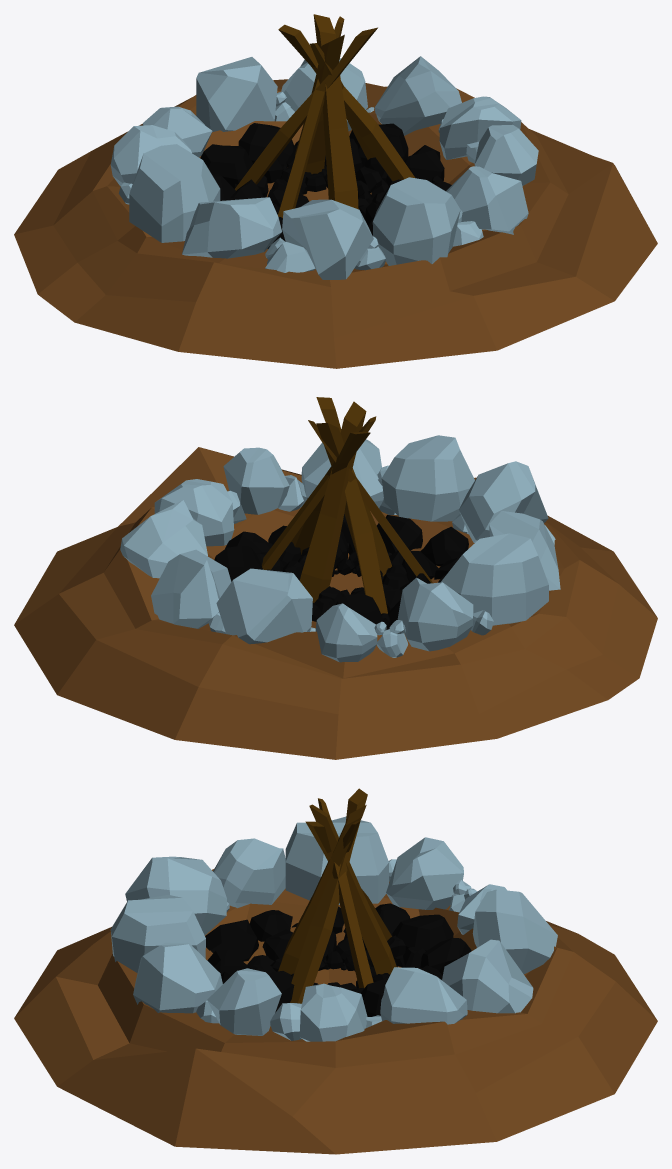
File: campfire.fbx
3 views of the same model, one above another, from view 1: azimuth 30°, elevation 25°; view 2: azimuth 150°, elevation 25°; view 3: azimuth 270°, elevation 25° (orthographic).
Visible parts, largest first — view 1: fire ring.005; view 2: fire ring.005; view 3: fire ring.005.
Part boxes in pixels (box(x1,y1,x2,y2)): fire ring.005: box(14, 14, 657, 368); fire ring.005: box(14, 397, 657, 759); fire ring.005: box(14, 788, 657, 1154).
Bounding box in the file's own units: 156 × 58 × 153.
